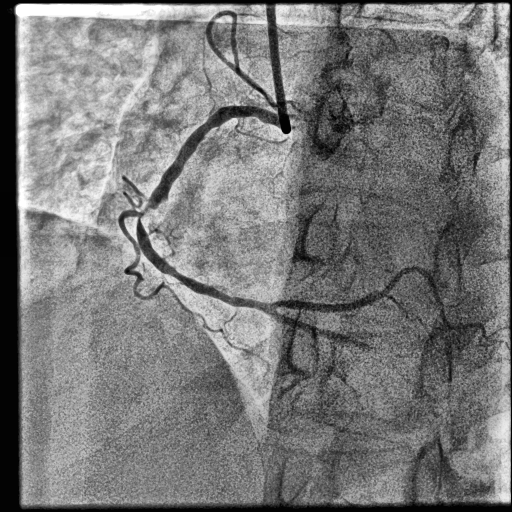pborca: (275, 267, 447, 324)
pda: (273, 310, 373, 350)
rca: (137, 105, 281, 318)
